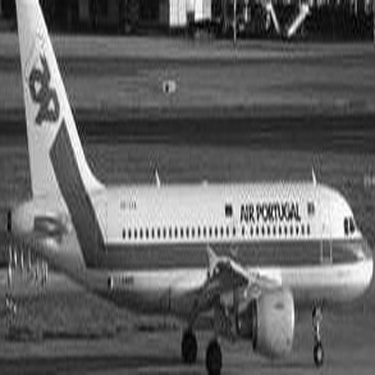airplane: (4, 2, 373, 372)
